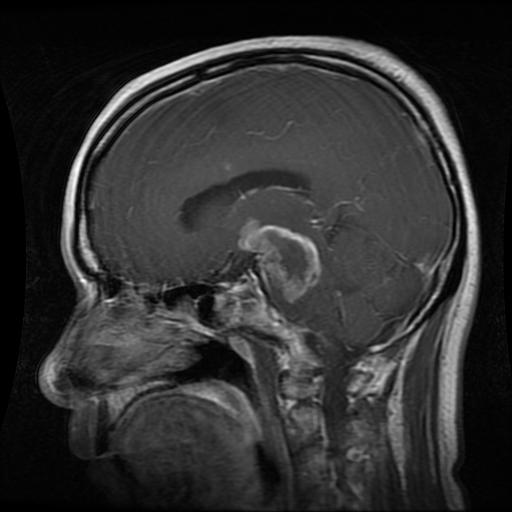Gliomia_tumour: (236, 215, 321, 300)
